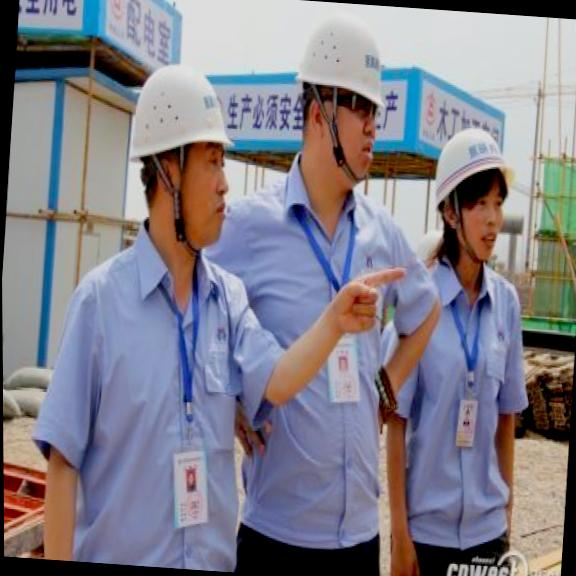no_safety_vest: (208, 182, 420, 532), (64, 250, 256, 572), (388, 265, 530, 538)
